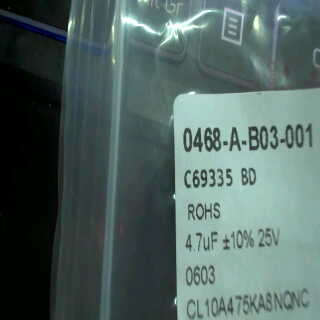4.7uF: (182, 230, 219, 254)
